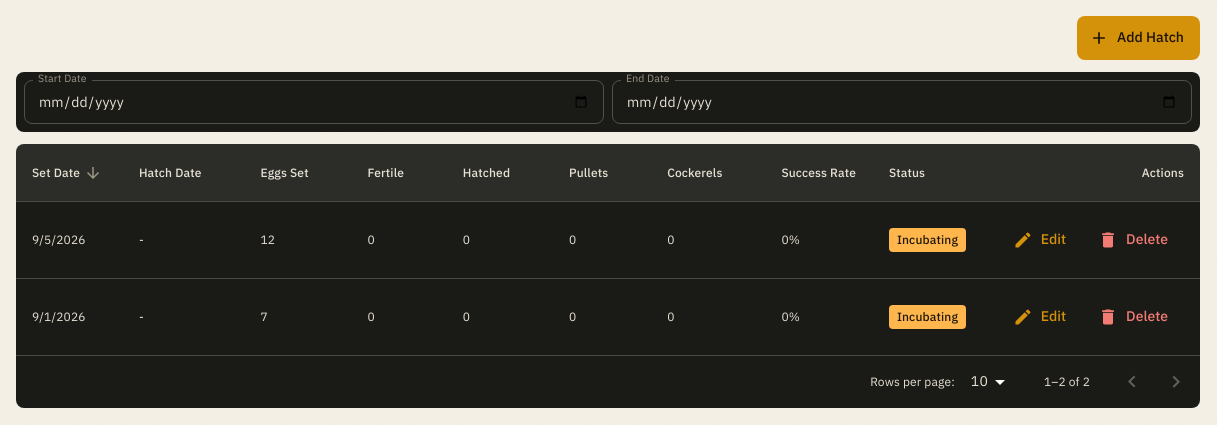
Test: HatchLogPage — the End Date filter includes its own day › keeps the event set on the start date
Check: the text "12" is shown, box [244,202,352,278]
Type "2026-09-05" into the date field labelled "Start Date" at {"x": 314, "y": 102}, box [24,80,604,124]
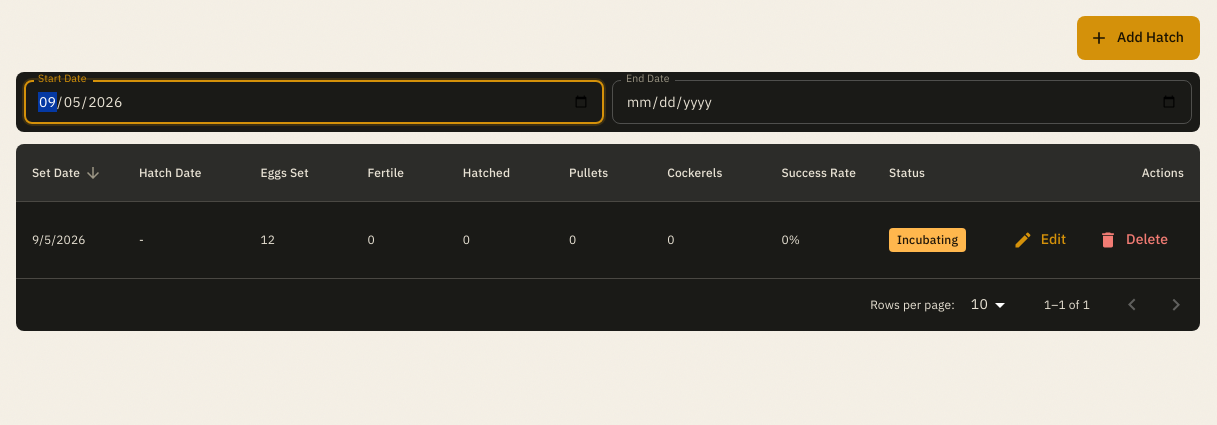
Check: the text "12" is shown, box [244,202,352,278]
Check: the text "7" is gone
